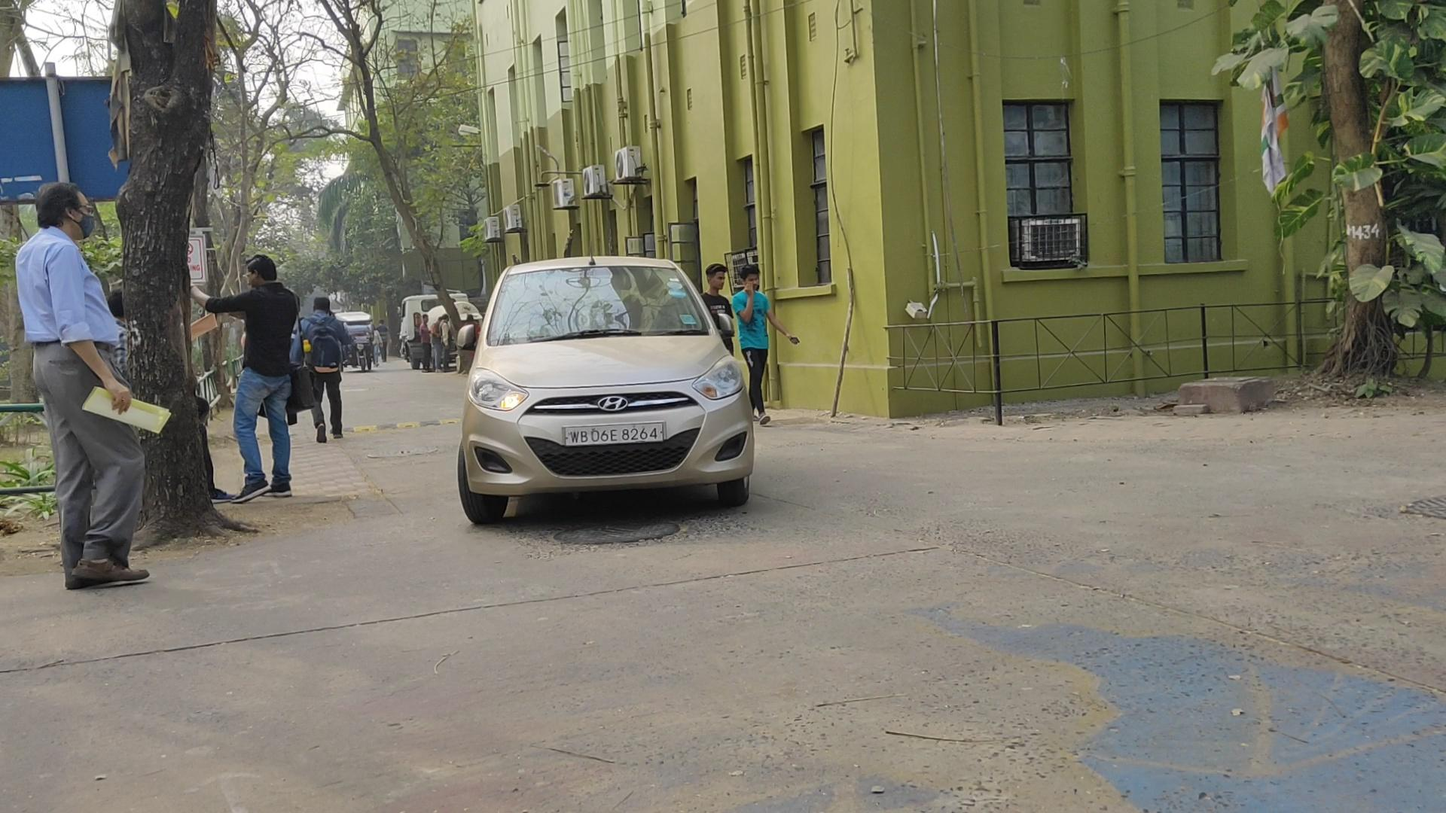Auto: (334, 311, 376, 373)
car: (457, 255, 755, 528)
truck: (397, 294, 482, 364)
